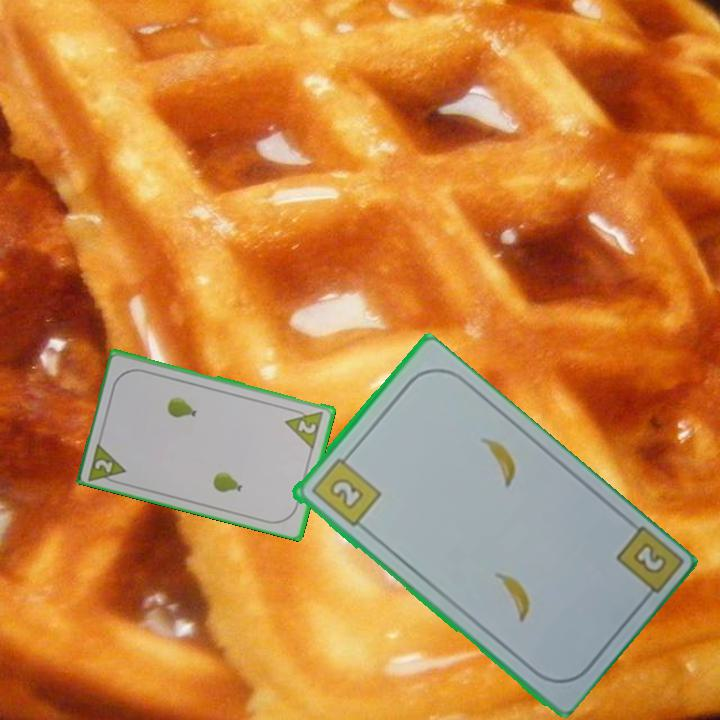2b: (611, 522, 683, 608), (307, 449, 383, 530)
2p: (85, 438, 130, 486), (282, 404, 326, 451)
